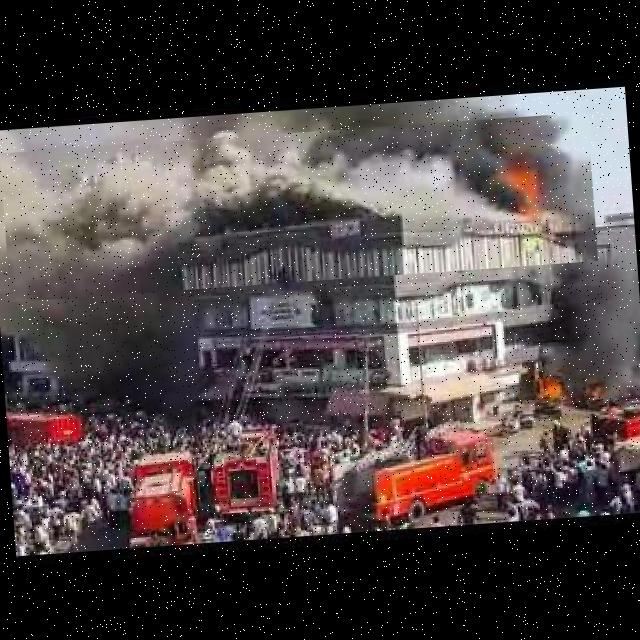fire: (0, 111, 597, 301)
